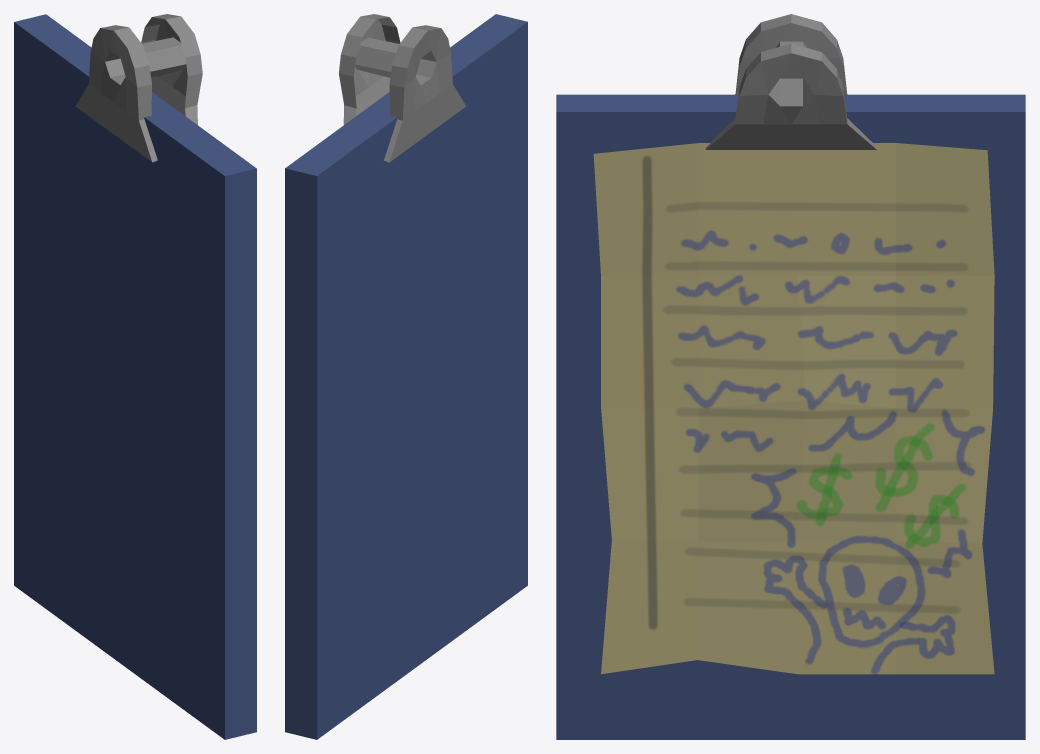
File: Clipboard.fbx
The picture shows the model from 3 angles, left to right: view 1: azimuth 30°, elevation 25°; view 2: azimuth 150°, elevation 25°; view 3: azimuth 270°, elevation 25°; orthographic projection. The views are drawn at different scales.
Parts seen in each view (by area): view 1: Clipboard, Clip; view 2: Clipboard, Clip; view 3: Paper, Clipboard, Clip.
Part boxes in pixels (box(x1,y1,x2,y2)): Clipboard: box(14, 14, 256, 739); Clip: box(75, 14, 202, 162); Clipboard: box(285, 14, 527, 739); Clip: box(339, 14, 465, 162); Paper: box(593, 143, 994, 674); Clipboard: box(556, 94, 1025, 739); Clip: box(705, 14, 877, 149).
Size of the model in its own units: 5.03 by 45.05 by 27.17.
